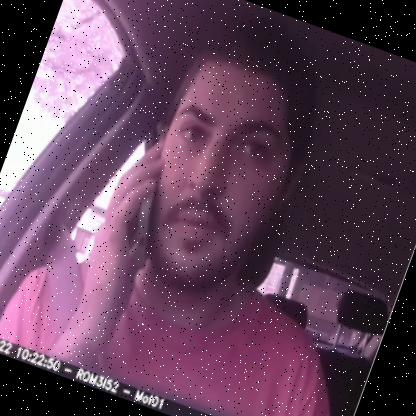phone: (88, 116, 190, 286)
